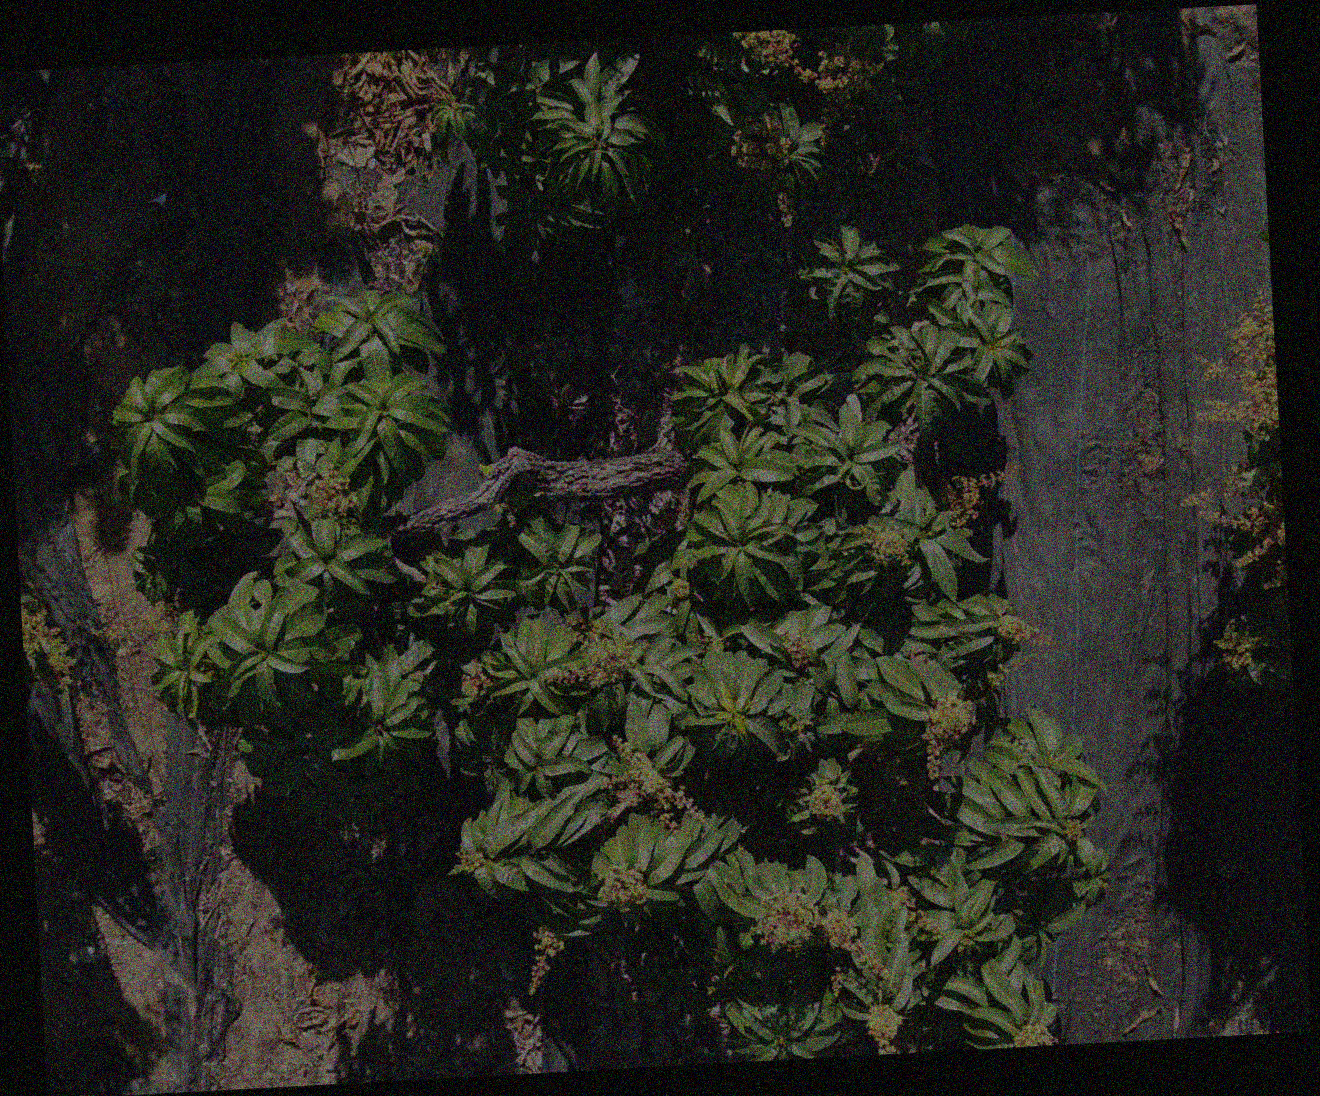flowers: (1184, 463, 1284, 593), (751, 887, 884, 980), (1194, 294, 1275, 436), (606, 734, 699, 824), (731, 114, 793, 228), (545, 616, 635, 689), (268, 456, 356, 521), (23, 601, 75, 707), (795, 44, 881, 105), (945, 465, 1020, 534), (922, 695, 976, 780), (803, 760, 851, 821), (1213, 616, 1263, 671), (526, 926, 566, 994), (733, 30, 797, 67), (598, 864, 647, 910), (995, 610, 1055, 647), (866, 1003, 903, 1054), (868, 529, 910, 567), (459, 660, 492, 701), (783, 628, 813, 669), (447, 845, 485, 875), (1011, 1021, 1056, 1046), (778, 713, 811, 734), (918, 836, 943, 846)
